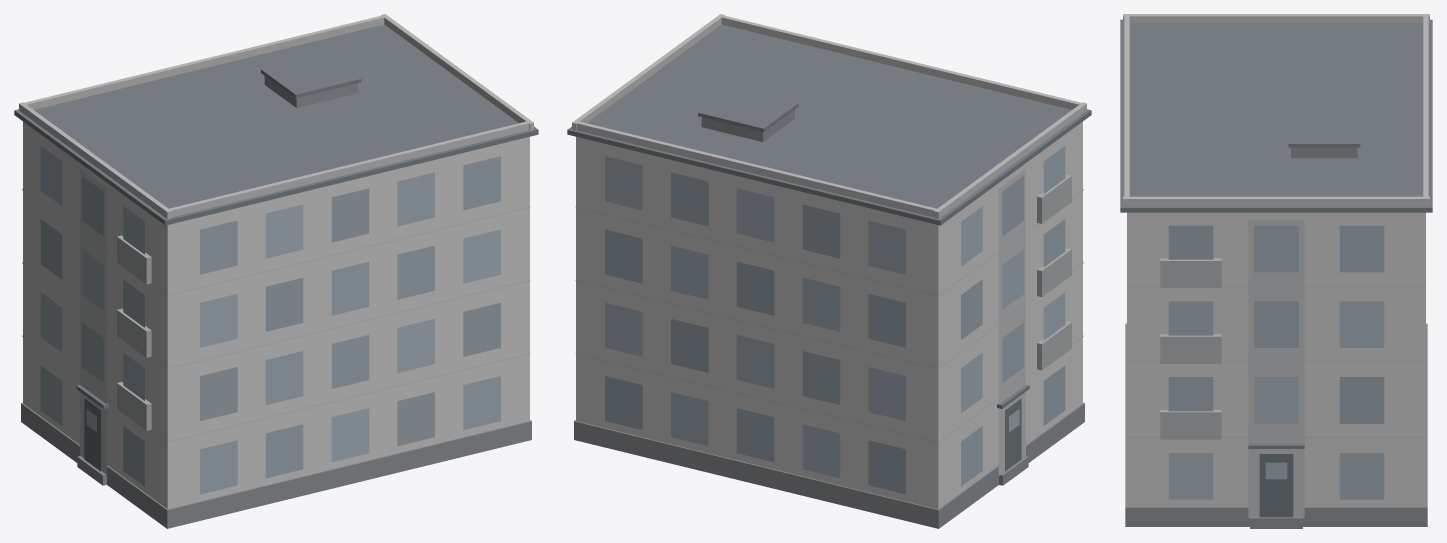
File: block_3.glb
The picture shows the model from 3 angles, left to right: view 1: azimuth 30°, elevation 25°; view 2: azimuth 150°, elevation 25°; view 3: azimuth 270°, elevation 25°; orthographic projection. The views are drawn at different scales.
Parts seen in each view (by area): view 1: block_3; view 2: block_3; view 3: block_3.
Part boxes in pixels (<box>): block_3: <box>14,14,538,528</box>; block_3: <box>567,14,1091,528</box>; block_3: <box>1120,14,1432,528</box>.
Bounding box in the file's own units: 13.4 × 11.17 × 9.4.
